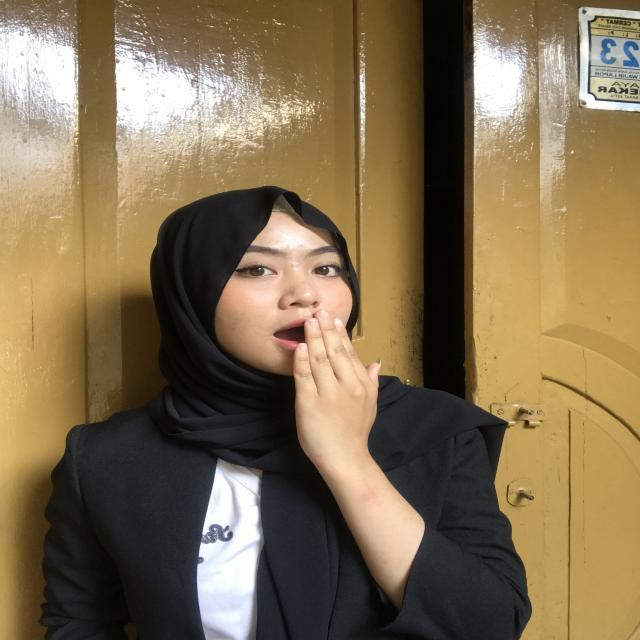ngantuk: (246, 302, 444, 478)
